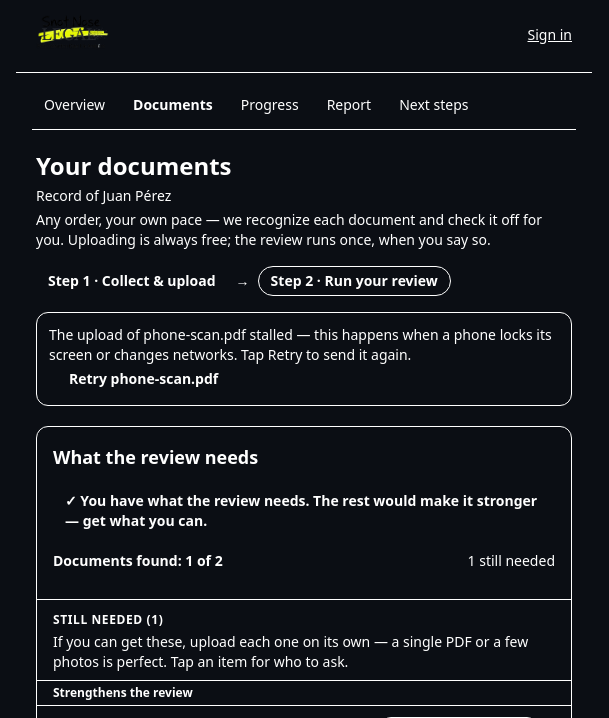
bulk ZIP + run-anyway consent (bulk_zip_upload.md) › a PUT with no progress for 45 s is treated as stalled: aborted, explained, retryable in one tap (2026-09-12)
Earlier steps of the test are not shown.
Later steps or results of the test are not shown.
Expected: the message with test id "upload-error" shows "stalled — this happens when a phone locks its screen", [49, 325, 552, 364]
What coordinates should you click on to do the following:
click the button with test id "upload-retry"
I would click on:
 (144, 379)
Its box is [57, 365, 230, 393].
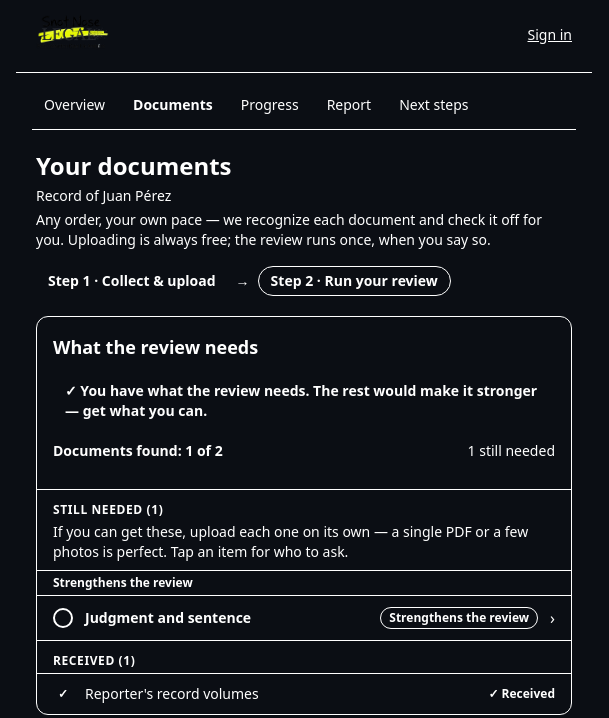
Expected: the button with test id "upload-retry" is gone
